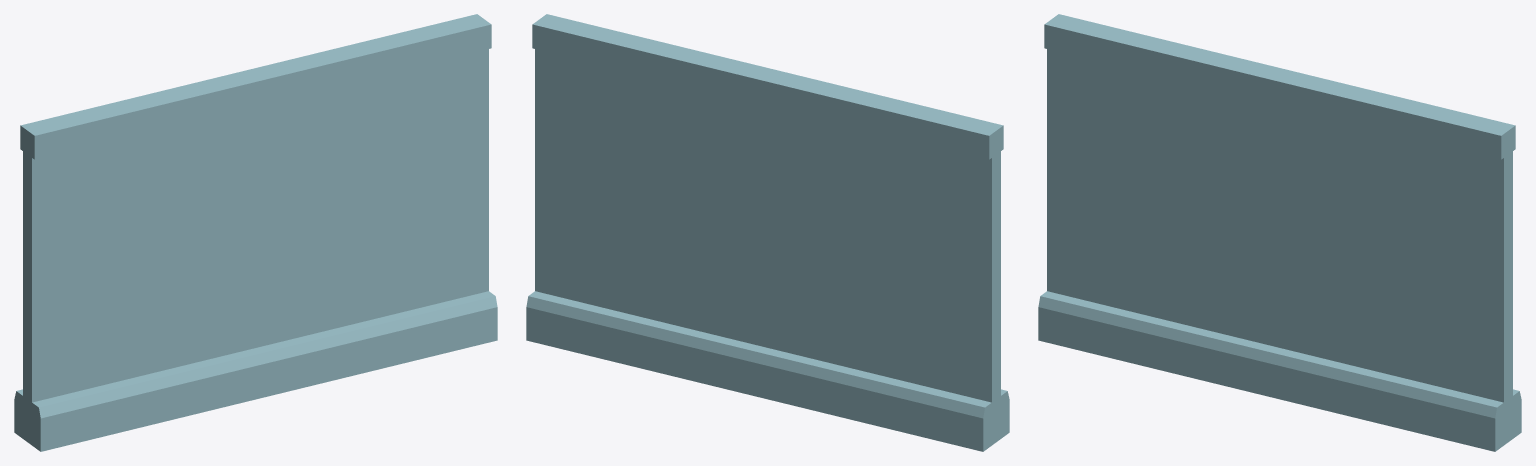
File: d_kenney_muret_pierre.glb
The picture shows the model from 3 angles, left to right: view 1: azimuth 30°, elevation 25°; view 2: azimuth 150°, elevation 25°; view 3: azimuth 330°, elevation 25°; orthographic projection.
Visible parts, largest first — view 1: d_kenney_muret_pierre; view 2: d_kenney_muret_pierre; view 3: d_kenney_muret_pierre.
Boxes of the visible parts, box(x1,y1,x2,y2) form: d_kenney_muret_pierre: box(14, 14, 497, 451); d_kenney_muret_pierre: box(526, 14, 1009, 451); d_kenney_muret_pierre: box(1038, 14, 1521, 451).
Bounding box in the file's own units: 1 × 0.6519 × 0.1.
Materials: 1 (1 with a texture image).
